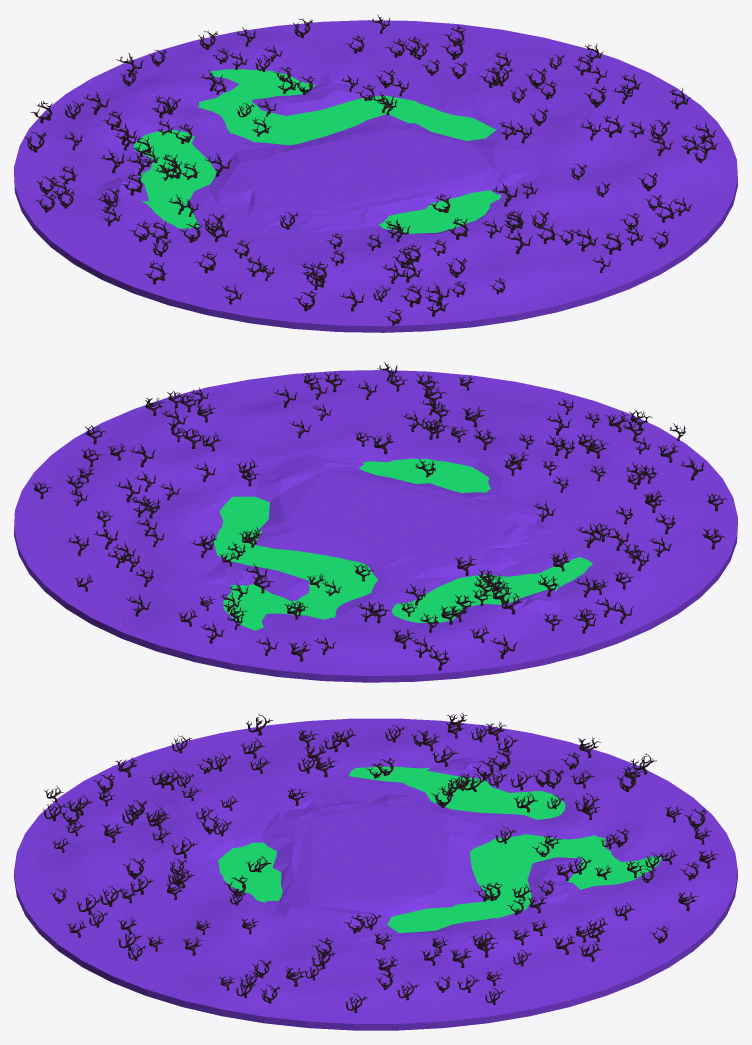
Rendered from DesolateBattleMap.fbx.
3 renders of one model, top to bottom at view 1: azimuth 30°, elevation 25°; view 2: azimuth 150°, elevation 25°; view 3: azimuth 270°, elevation 25°, orthographic.
Parts seen in each view (by area): view 1: Battle_DesolateLand, Battle_DesolatePool; view 2: Battle_DesolateLand, Battle_DesolatePool; view 3: Battle_DesolateLand, Battle_DesolatePool.
Boxes of the visible parts, <box> form: Battle_DesolateLand: <box>14,20,737,332</box>; Battle_DesolatePool: <box>133,69,501,233</box>; Battle_DesolateLand: <box>14,370,737,682</box>; Battle_DesolatePool: <box>213,458,592,630</box>; Battle_DesolateLand: <box>14,718,737,1030</box>; Battle_DesolatePool: <box>218,766,661,933</box>.
Bounding box in the file's own units: 9980 × 10000 × 499.
